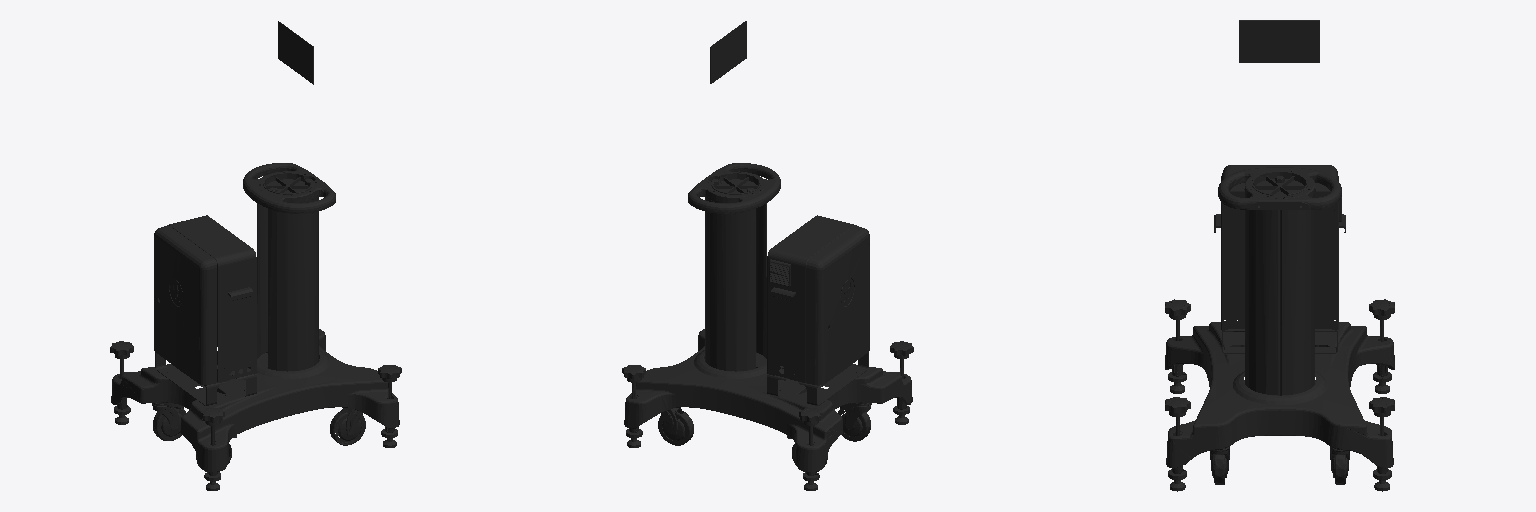
The robot description file, URDF, robot "sawyer":
<?xml version="1.0" encoding="utf-8"?>
<!-- =================================================================================== -->
<!-- |    This document was autogenerated by xacro from sawyer.urdf.xacro              | -->
<!-- |    EDITING THIS FILE BY HAND IS NOT RECOMMENDED                                 | -->
<!-- =================================================================================== -->
<robot name="sawyer">
  <material name="black">
    <color rgba="0 0 0 1"/>
  </material>
  <material name="darkgray">
    <color rgba=".2 .2 .2 1"/>
  </material>
  <material name="darkred">
    <color rgba=".5 .1 .1 1"/>
  </material>
  <material name="sawyer_red">
    <color rgba=".5 .1 .1 1"/>
  </material>
  <material name="sawyer_gray">
    <color rgba="0.75294 0.75294 0.75294 1"/>
  </material>
  <link name="base_link"/>
  <link name="torso">
    <visual>
      <origin rpy="0 0 0" xyz="0 0 0"/>
      <geometry>
        <box size="0.001 0.001 0.001"/>
      </geometry>
      <material name="darkgray">
        <color rgba=".2 .2 .2 1"/>
      </material>
    </visual>
    <inertial>
      <origin rpy="0 0 0" xyz="0.000000 0.000000 0.000000"/>
      <mass value="0.0001"/>
      <inertia ixx="1e-08" ixy="0" ixz="0" iyy="1e-08" iyz="0" izz="1e-08"/>
    </inertial>
  </link>
  <link name="pedestal">
    <visual>
      <origin rpy="1.57079632679 0 -1.57079632679" xyz="0.26 0.345 -0.91488"/>
      <geometry>
        <mesh filename="package://sawyer/meshes/sawyer_pv/pedestal.DAE"/>
      </geometry>
      <material name="darkgray"/>
    </visual>
    <collision>
      <origin rpy="0 0 0" xyz="-0.02 0 -0.29"/>
      <geometry>
        <cylinder length="0.62" radius="0.18"/>
      </geometry>
    </collision>
    <inertial>
      <origin rpy="0 0 0" xyz="0 0 -0.5"/>
      <mass value="60.86397744"/>
      <inertia ixx="5.0635929" ixy="0.00103417" ixz="0.80199628" iyy="6.08689388" iyz="0.00105311" izz="4.96191932"/>
    </inertial>
  </link>
  <link name="controller_box">
    <collision>
      <origin rpy="0 0 0" xyz="-0.325 0 -0.38"/>
      <geometry>
        <box size="0.22 0.4 0.53"/>
      </geometry>
    </collision>
  </link>
  <joint name="controller_box_fixed" type="fixed">
    <origin rpy="0 0 0" xyz="0.0 0.0 0.0"/>
    <parent link="base_link"/>
    <child link="controller_box"/>
  </joint>
  <link name="pedestal_feet">
    <collision>
      <origin rpy="0 0 0" xyz="-0.1225 0 -0.758"/>
      <geometry>
        <box size="0.77 0.7 0.31"/>
      </geometry>
    </collision>
  </link>
  <joint name="pedestal_feet_fixed" type="fixed">
    <origin rpy="0 0 0" xyz="0.0 0.0 0.0"/>
    <parent link="base_link"/>
    <child link="pedestal_feet"/>
  </joint>
  <joint name="pedestal_fixed" type="fixed">
    <origin rpy="0 0 0" xyz="0.0 0.0 0.0"/>
    <parent link="base_link"/>
    <child link="pedestal"/>
  </joint>
  <joint name="right_arm_mount" type="fixed">
    <origin rpy="0 0 0" xyz="0.0 0.0 0.0"/>
    <parent link="base_link"/>
    <child link="right_arm_base_link"/>
  </joint>
  <joint name="torso_t0" type="fixed">
    <origin rpy="0 0 0" xyz="0 0 0"/>
    <parent link="base_link"/>
    <child link="torso"/>
  </joint>
  <link name="right_arm_base_link">
    <inertial>
      <origin rpy="0 0 0" xyz="-0.0006241 -2.8025E-05 0.065404"/>
      <mass value="2.0687"/>
      <inertia ixx="0.0067599" ixy="-4.2024E-05" ixz="-6.1904E-07" iyy="0.0067877" iyz="1.5888E-05" izz="0.0074031"/>
    </inertial>
    <visual>
      <origin rpy="0 0 0" xyz="0 0 0"/>
      <geometry>
        <mesh filename="package://sawyer/meshes/sawyer_pv/base.DAE"/>
      </geometry>
      <material name="sawyer_red"/>
    </visual>
    <collision>
      <origin rpy="0 0 0" xyz="0 0 0.12"/>
      <geometry>
        <cylinder length="0.24" radius="0.08"/>
      </geometry>
    </collision>
  </link>
  <link name="right_l0">
    <inertial>
      <origin rpy="0 0 0" xyz="0.024366 0.010969 0.14363"/>
      <mass value="5.3213"/>
      <inertia ixx="0.053314" ixy="0.0047093" ixz="0.011734" iyy="0.057902" iyz="0.0080179" izz="0.023659"/>
    </inertial>
    <visual>
      <origin rpy="0 0 0" xyz="0 0 0"/>
      <geometry>
        <mesh filename="package://sawyer/meshes/sawyer_mp3/l0.DAE"/>
      </geometry>
      <material name="sawyer_red"/>
    </visual>
    <collision>
      <origin rpy="0 0 0" xyz="0.08 0 0.23"/>
      <geometry>
        <sphere radius="0.07"/>
      </geometry>
    </collision>
  </link>
  <joint name="right_j0" type="revolute">
    <origin rpy="0 0 0" xyz="0 0 0.08"/>
    <parent link="right_arm_base_link"/>
    <child link="right_l0"/>
    <axis xyz="0 0 1"/>
    <limit effort="80.0" lower="-3.0503" upper="3.0503" velocity="1.74"/>
  </joint>
  <link name="head">
    <inertial>
      <origin rpy="0 0 0" xyz="0.0053207 -2.6549E-05 0.1021"/>
      <mass value="1.5795"/>
      <inertia ixx="0.011833" ixy="-4.4669E-06" ixz="4.9425E-05" iyy="0.0082709" iyz="4.2124E-07" izz="0.0049661"/>
    </inertial>
    <visual>
      <origin rpy="0 0 0" xyz="0 0 0"/>
      <geometry>
        <mesh filename="package://sawyer/meshes/sawyer_pv/head.DAE"/>
      </geometry>
      <material name="sawyer_red"/>
    </visual>
    <collision>
      <origin rpy="0 0 0" xyz="0 0 0.08"/>
      <geometry>
        <sphere radius="0.18"/>
      </geometry>
    </collision>
  </link>
  <joint name="head_pan" type="revolute">
    <origin rpy="0 0 0" xyz="0 0 0.2965"/>
    <parent link="right_l0"/>
    <child link="head"/>
    <axis xyz="0 0 1"/>
    <limit effort="8" lower="-5.0952" upper="0.9064" velocity="1.8"/>
  </joint>
  <link name="right_torso_itb">
    <inertial>
      <origin rpy="0 0 0" xyz="0.000000 0.000000 0.000000"/>
      <mass value="0.0001"/>
      <inertia ixx="1e-08" ixy="0" ixz="0" iyy="1e-08" iyz="0" izz="1e-08"/>
    </inertial>
  </link>
  <joint name="right_torso_itb" type="fixed">
    <origin rpy="0 -1.57079632679 0" xyz="-.055 0 .22"/>
    <parent link="right_l0"/>
    <child link="right_torso_itb"/>
    <axis xyz="0 0 1"/>
  </joint>
  <link name="right_l1">
    <inertial>
      <origin rpy="0 0 0" xyz="-0.0030849 -0.026811 0.092521"/>
      <mass value="4.505"/>
      <inertia ixx="0.022398" ixy="-0.00023986" ixz="-0.00029362" iyy="0.014613" iyz="-0.0060875" izz="0.017295"/>
    </inertial>
    <visual>
      <origin rpy="0 0 0" xyz="0 0 0"/>
      <geometry>
        <mesh filename="package://sawyer/meshes/sawyer_mp3/l1.DAE"/>
      </geometry>
      <material name="sawyer_red"/>
    </visual>
    <collision>
      <origin rpy="0 0 0" xyz="0 0 0.1225"/>
      <geometry>
        <sphere radius="0.07"/>
      </geometry>
    </collision>
  </link>
  <joint name="right_j1" type="revolute">
    <origin rpy="-1.57079632679 1.57079632679 0" xyz="0.081 0.05 0.237"/>
    <parent link="right_l0"/>
    <child link="right_l1"/>
    <axis xyz="0 0 1"/>
    <limit effort="80.0" lower="-3.8095" upper="2.2736" velocity="1.328"/>
  </joint>
  <link name="right_l2">
    <inertial>
      <origin rpy="0 0 0" xyz="-0.00016044 -0.014967 0.13582"/>
      <mass value="1.745"/>
      <inertia ixx="0.025506" ixy="4.4101E-06" ixz="1.4955E-05" iyy="0.0253" iyz="-0.0033204" izz="0.0034179"/>
    </inertial>
    <visual>
      <origin rpy="0 0 0" xyz="0 0 0"/>
      <geometry>
        <mesh filename="package://sawyer/meshes/sawyer_pv/l2.DAE"/>
      </geometry>
      <material name="sawyer_red"/>
    </visual>
    <collision>
      <origin rpy="0 0 0" xyz="0 0 0.08"/>
      <geometry>
        <cylinder length="0.34" radius="0.06"/>
      </geometry>
    </collision>
  </link>
  <joint name="right_j2" type="revolute">
    <origin rpy="1.57079632679 0 0" xyz="0 -0.14 0.1425"/>
    <parent link="right_l1"/>
    <child link="right_l2"/>
    <axis xyz="0 0 1"/>
    <limit effort="40.0" lower="-3.0426" upper="3.0426" velocity="1.957"/>
  </joint>
  <link name="right_l3">
    <inertial>
      <origin rpy="0 0 0" xyz="-0.0048135 -0.0281 -0.084154"/>
      <mass value="2.5097"/>
      <inertia ixx="0.01016" ixy="-9.7452E-06" ixz="0.00026624" iyy="0.0065685" iyz="0.0030316" izz="0.0069078"/>
    </inertial>
    <visual>
      <origin rpy="0 0 0" xyz="0 0 0"/>
      <geometry>
        <mesh filename="package://sawyer/meshes/sawyer_pv/l3.DAE"/>
      </geometry>
      <material name="sawyer_red"/>
    </visual>
    <collision>
      <origin rpy="0 0 0" xyz="0 -0.01 -0.12"/>
      <geometry>
        <sphere radius="0.06"/>
      </geometry>
    </collision>
  </link>
  <joint name="right_j3" type="revolute">
    <origin rpy="-1.57079632679 0 0" xyz="0 -0.042 0.26"/>
    <parent link="right_l2"/>
    <child link="right_l3"/>
    <axis xyz="0 0 1"/>
    <limit effort="40.0" lower="-3.0439" upper="3.0439" velocity="1.957"/>
  </joint>
  <link name="right_l4">
    <inertial>
      <origin rpy="0 0 0" xyz="-0.0018844 0.0069001 0.1341"/>
      <mass value="1.1136"/>
      <inertia ixx="0.013557" ixy="1.8109E-05" ixz="0.00013523" iyy="0.013555" iyz="0.0010561" izz="0.0013658"/>
    </inertial>
    <visual>
      <origin rpy="0 0 0" xyz="0 0 0"/>
      <geometry>
        <mesh filename="package://sawyer/meshes/sawyer_pv/l4.DAE"/>
      </geometry>
      <material name="sawyer_red"/>
    </visual>
    <collision>
      <origin rpy="0 0 0" xyz="0 0 0.11"/>
      <geometry>
        <cylinder length="0.30" radius="0.045"/>
      </geometry>
    </collision>
  </link>
  <joint name="right_j4" type="revolute">
    <origin rpy="1.57079632679 0 0" xyz="0 -0.125 -0.1265"/>
    <parent link="right_l3"/>
    <child link="right_l4"/>
    <axis xyz="0 0 1"/>
    <limit effort="9.0" lower="-2.9761" upper="2.9761" velocity="3.485"/>
  </joint>
  <link name="right_arm_itb">
    <inertial>
      <origin rpy="0 0 0" xyz="0.000000 0.000000 0.000000"/>
      <mass value="0.0001"/>
      <inertia ixx="1e-08" ixy="0" ixz="0" iyy="1e-08" iyz="0" izz="1e-08"/>
    </inertial>
  </link>
  <joint name="right_arm_itb" type="fixed">
    <origin rpy="0 -1.57079632679 0" xyz="-.055 0 .075"/>
    <parent link="right_l4"/>
    <child link="right_arm_itb"/>
    <axis xyz="0 0 1"/>
  </joint>
  <link name="right_l5">
    <inertial>
      <origin rpy="0 0 0" xyz="0.0061133 -0.023697 0.076416"/>
      <mass value="1.5625"/>
      <inertia ixx="0.0047328" ixy="0.00011526" ixz="4.6269E-05" iyy="0.0029676" iyz="-0.0011557" izz="0.0031762"/>
    </inertial>
    <visual>
      <origin rpy="0 0 0" xyz="0 0 0"/>
      <geometry>
        <mesh filename="package://sawyer/meshes/sawyer_pv/l5.DAE"/>
      </geometry>
      <material name="sawyer_red"/>
    </visual>
    <collision>
      <origin rpy="0 0 0" xyz="0 0 0.1"/>
      <geometry>
        <sphere radius="0.06"/>
      </geometry>
    </collision>
  </link>
  <joint name="right_j5" type="revolute">
    <origin rpy="-1.57079632679 0 0" xyz="0 0.031 0.275"/>
    <parent link="right_l4"/>
    <child link="right_l5"/>
    <axis xyz="0 0 1"/>
    <limit effort="9.0" lower="-2.9761" upper="2.9761" velocity="3.485"/>
  </joint>
  <link name="right_hand_camera"/>
  <joint name="right_hand_camera" type="fixed">
    <origin rpy="0 1.57079632679 0" xyz="0.039552 -0.033 0.0695"/>
    <parent link="right_l5"/>
    <child link="right_hand_camera"/>
    <axis xyz="0 0 0"/>
  </joint>
  <link name="right_wrist"/>
  <joint name="right_wrist" type="fixed">
    <origin rpy="1.57079632679 0 0" xyz="0 0 0.10541"/>
    <parent link="right_l5"/>
    <child link="right_wrist"/>
    <axis xyz="0 0 0"/>
  </joint>
  <link name="right_l6">
    <inertial>
      <origin rpy="0 0 0" xyz="-8.0726E-06 0.0085838 -0.0049566"/>
      <mass value="0.3292"/>
      <inertia ixx="0.00031105" ixy="1.4771E-06" ixz="-3.7074E-07" iyy="0.00021549" iyz="-8.4533E-06" izz="0.00035976"/>
    </inertial>
    <visual>
      <origin rpy="0 0 0" xyz="0 0 0"/>
      <geometry>
        <mesh filename="package://sawyer/meshes/sawyer_mp1/l6.DAE"/>
      </geometry>
      <material name="sawyer_red"/>
    </visual>
    <collision>
      <origin rpy="0 0 0" xyz="0 0.015 -0.01"/>
      <geometry>
        <cylinder length="0.05" radius="0.055"/>
      </geometry>
    </collision>
  </link>
  <joint name="right_j6" type="revolute">
    <origin rpy="-1.57079632679 -0.17453 3.1416" xyz="0 -0.11 0.1053"/>
    <parent link="right_l5"/>
    <child link="right_l6"/>
    <axis xyz="0 0 1"/>
    <limit effort="9.0" lower="-4.7124" upper="4.7124" velocity="4.545"/>
  </joint>
  <link name="right_hand">
    <collision>
      <origin rpy="0 0 0" xyz="0 0 0.02"/>
      <geometry>
        <cylinder length="0.03" radius="0.035"/>
      </geometry>
    </collision>
    <inertial>
      <origin rpy="0 0 0" xyz="1.0E-08 1.0E-08 1.0E-08"/>
      <mass value="1.0E-08"/>
      <inertia ixx="1.0E-08" ixy="1.0E-08" ixz="1.0E-08" iyy="1.0E-08" iyz="1.0E-08" izz="1.0E-08"/>
    </inertial>
  </link>
  <joint name="right_hand" type="fixed">
    <origin rpy="0 0 1.570796" xyz="0 0 0.0245"/>
    <axis xyz="0 0 1"/>
    <parent link="right_l6"/>
    <child link="right_hand"/>
  </joint>
  <link name="right_l1_2">
    <inertial>
      <origin rpy="0 0 0" xyz="1.0E-08 1.0E-08 1.0E-08"/>
      <mass value="1.0E-08"/>
      <inertia ixx="1.0E-08" ixy="1.0E-08" ixz="1.0E-08" iyy="1.0E-08" iyz="1.0E-08" izz="1.0E-08"/>
    </inertial>
    <collision>
      <origin rpy="0 0 0" xyz="0 0 0.035"/>
      <geometry>
        <cylinder length="0.14" radius="0.07"/>
      </geometry>
    </collision>
  </link>
  <joint name="right_j1_2" type="fixed">
    <origin rpy="0 0 0" xyz="0 0 0"/>
    <parent link="right_l1"/>
    <child link="right_l1_2"/>
    <axis xyz="0 0 1"/>
  </joint>
  <link name="right_l2_2">
    <inertial>
      <origin rpy="0 0 0" xyz="1.0E-08 1.0E-08 1.0E-08"/>
      <mass value="1.0E-08"/>
      <inertia ixx="1.0E-08" ixy="1.0E-08" ixz="1.0E-08" iyy="1.0E-08" iyz="1.0E-08" izz="1.0E-08"/>
    </inertial>
    <collision>
      <origin rpy="0 0 0" xyz="0 0 0.26"/>
      <geometry>
        <sphere radius="0.06"/>
      </geometry>
    </collision>
  </link>
  <joint name="right_j2_2" type="fixed">
    <origin rpy="0 0 0" xyz="0 0 0"/>
    <parent link="right_l2"/>
    <child link="right_l2_2"/>
    <axis xyz="0 0 1"/>
  </joint>
  <link name="right_l4_2">
    <inertial>
      <origin rpy="0 0 0" xyz="1.0E-08 1.0E-08 1.0E-08"/>
      <mass value="1.0E-08"/>
      <inertia ixx="1.0E-08" ixy="1.0E-08" ixz="1.0E-08" iyy="1.0E-08" iyz="1.0E-08" izz="1.0E-08"/>
    </inertial>
    <collision>
      <origin rpy="0 0 0" xyz="0 0.01 0.26"/>
      <geometry>
        <sphere radius="0.06"/>
      </geometry>
    </collision>
  </link>
  <joint name="right_j4_2" type="fixed">
    <origin rpy="0 0 0" xyz="0 0 0"/>
    <parent link="right_l4"/>
    <child link="right_l4_2"/>
    <axis xyz="0 0 1"/>
  </joint>
  <link name="screen">
    <visual>
      <origin rpy="0 0 0" xyz="0 0 0"/>
      <geometry>
        <box size="0.24 0.14 0.002"/>
      </geometry>
      <material name="darkgray"/>
    </visual>
    <collision>
      <origin rpy="0 0 0" xyz="0 0 0"/>
      <geometry>
        <sphere radius="0.001"/>
      </geometry>
    </collision>
    <inertial>
      <origin rpy="0 0 0" xyz="0 0 0"/>
      <mass value="0.0001"/>
      <inertia ixx="1e-08" ixy="0" ixz="0" iyy="1e-08" iyz="0" izz="1e-08"/>
    </inertial>
  </link>
  <joint name="display_joint" type="fixed">
    <origin rpy="1.57079632679 0 1.57079632679" xyz="0.03 0.0 0.105"/>
    <parent link="head"/>
    <child link="screen"/>
  </joint>
  <link name="head_camera"/>
  <joint name="head_camera" type="fixed">
    <origin rpy="-2.1293 0 -1.57079632679" xyz="0.0228027 0 0.216572"/>
    <parent link="head"/>
    <child link="head_camera"/>
    <axis xyz="0 0 0"/>
  </joint>
</robot>

--- What the picture shows (computed from the rendered views, not written in the file) ---
Views: 3 orthographic renders of the robot side by side, from view 1: azimuth 30°, elevation 25°; view 2: azimuth 150°, elevation 25°; view 3: azimuth 270°, elevation 25°.
Model sawyer with 24 links and 23 joints (8 revolute, 15 fixed), rooted at base_link, posed all joints at 0.
Visible links, largest first — view 1: pedestal, screen; view 2: pedestal, screen; view 3: pedestal, screen.
Boxes of the visible links, x1,y1,x2,y2 form: pedestal: (110,163,401,490); screen: (278,21,313,84); pedestal: (622,163,913,490); screen: (710,21,746,83); pedestal: (1165,165,1394,491); screen: (1239,20,1319,62).
Bounding box of the posed robot: 0.7667 × 0.6859 × 1.47 m (x, y, z).
Meshes: 10 distinct files referenced, 1 mesh visuals loaded (1 Collada DAE); not drawn: 9 (reference not matched to a file when rendering).